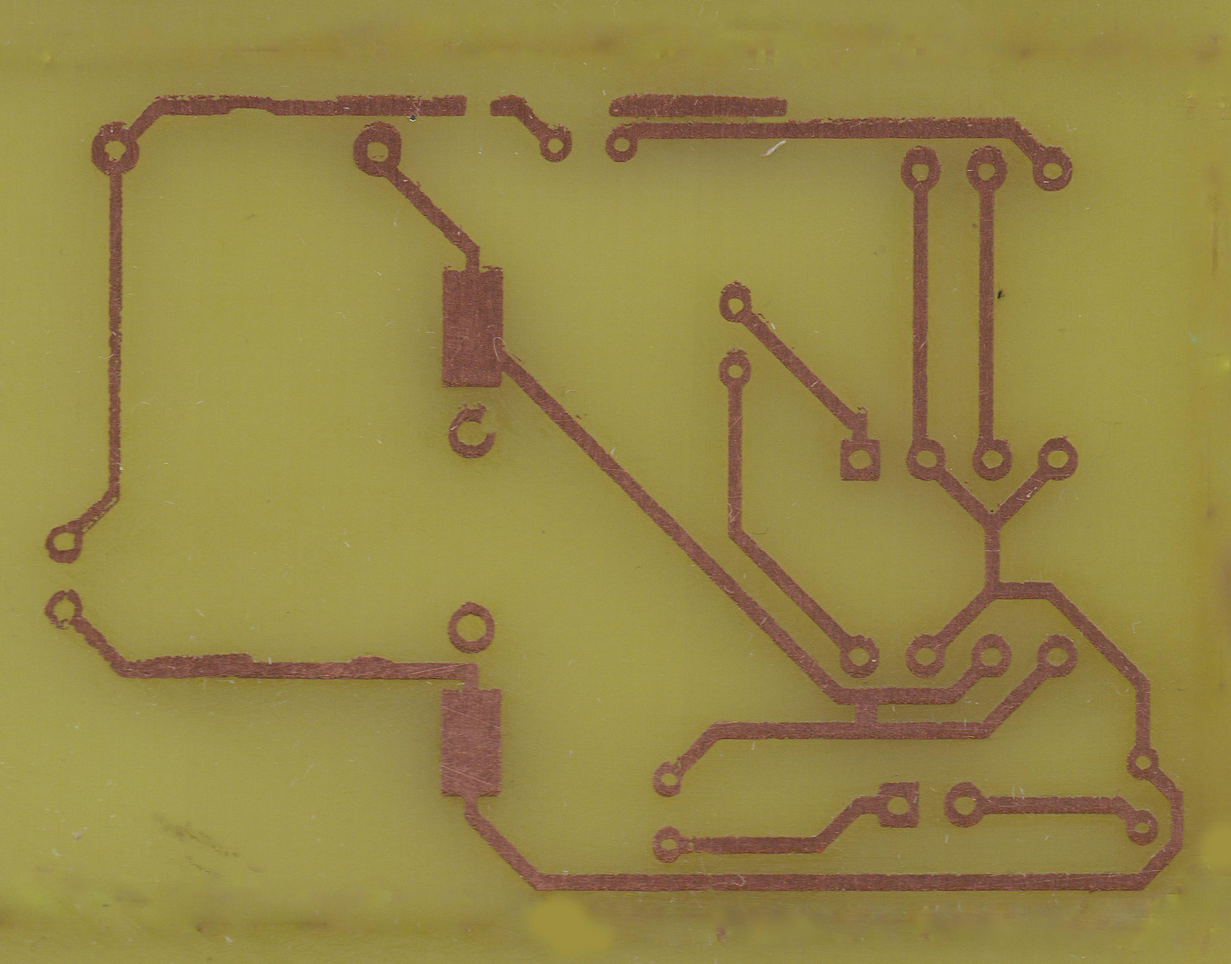missing_hole: (442, 402, 502, 462)
mouse_bite: (219, 82, 293, 125)
open_circuit: (445, 86, 509, 124)
short: (845, 681, 888, 742)
spur: (180, 641, 272, 687), (42, 583, 91, 637), (347, 649, 404, 686)
spurious_copper: (602, 92, 798, 122)
